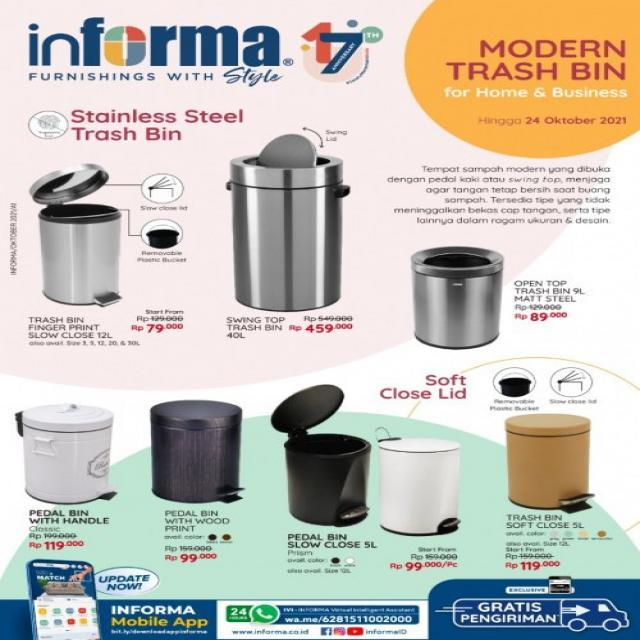Dumpster: (224, 128, 362, 316), (267, 382, 372, 526), (28, 161, 126, 304), (9, 394, 121, 504), (146, 392, 246, 504), (374, 432, 467, 541), (503, 405, 597, 510), (416, 248, 510, 349)
